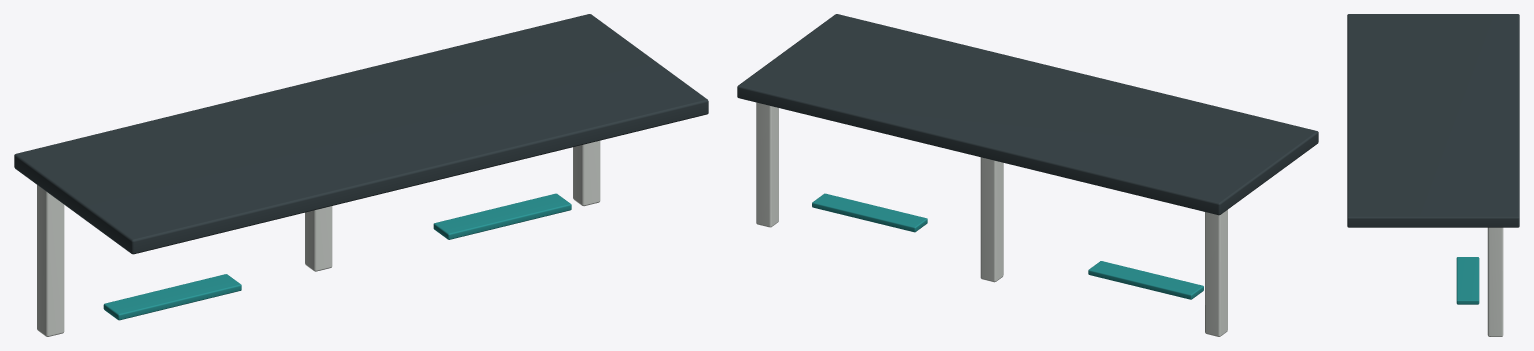
Rendered from street_arcade.glb.
The picture shows the model from 3 angles, left to right: view 1: azimuth 30°, elevation 25°; view 2: azimuth 150°, elevation 25°; view 3: azimuth 270°, elevation 25°; orthographic projection. The views are drawn at different scales.
Visible parts, largest first — view 1: street_arcade; view 2: street_arcade; view 3: street_arcade.
Part boxes in pixels (bbox=[...]): street_arcade: bbox=[14, 14, 708, 336]; street_arcade: bbox=[737, 14, 1318, 336]; street_arcade: bbox=[1347, 14, 1519, 336].
Size of the model in its own units: 14 by 3.97 by 5.
